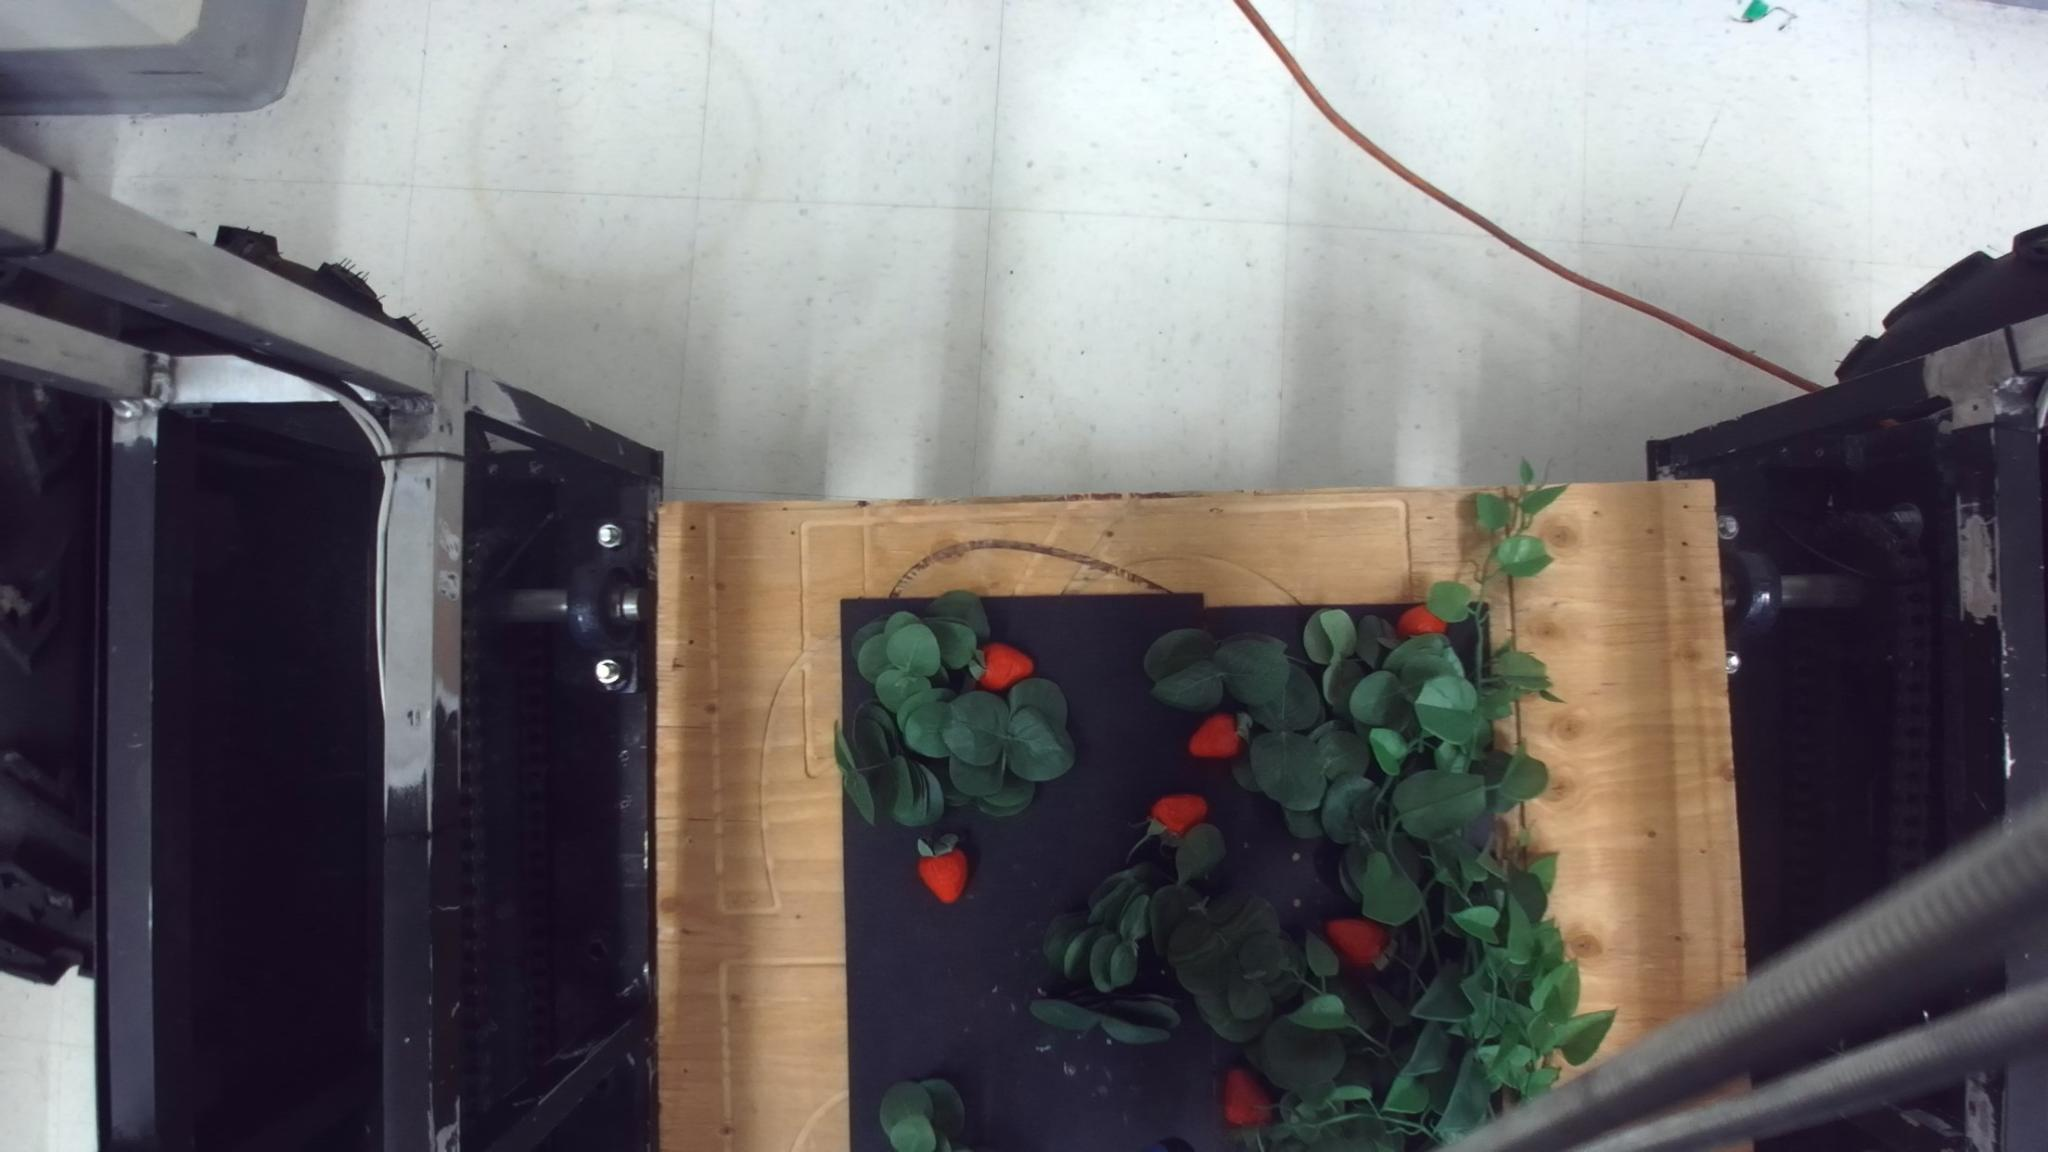mature: (1324, 916, 1391, 971), (1221, 1066, 1274, 1128), (972, 641, 1034, 692), (914, 848, 968, 904), (1146, 792, 1207, 840), (1189, 712, 1243, 760), (1397, 605, 1447, 637)
